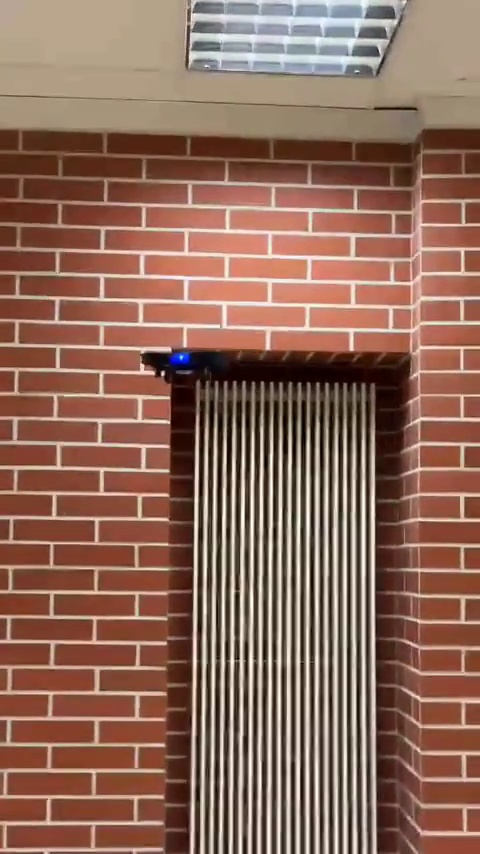drone: (140, 346, 225, 378)
